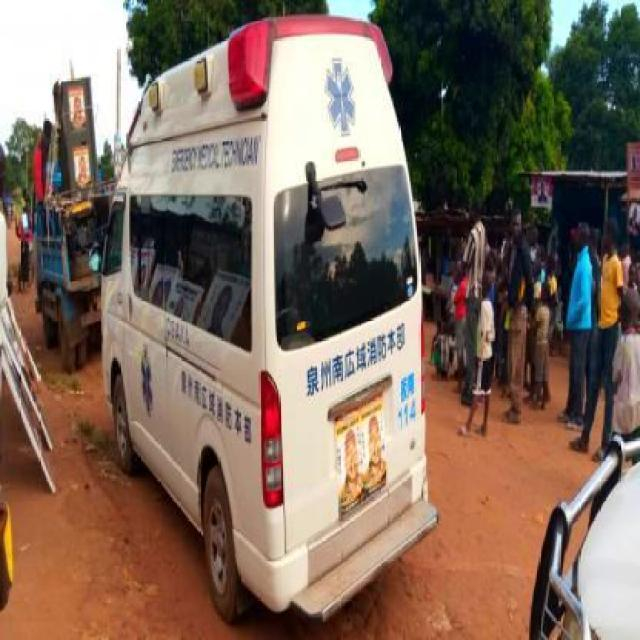emergency: (96, 14, 440, 626)
